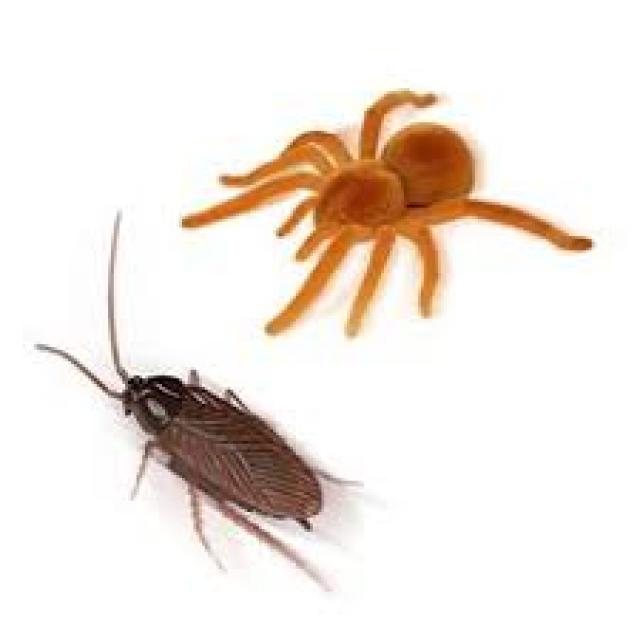Cockroach: (58, 311, 381, 588)
